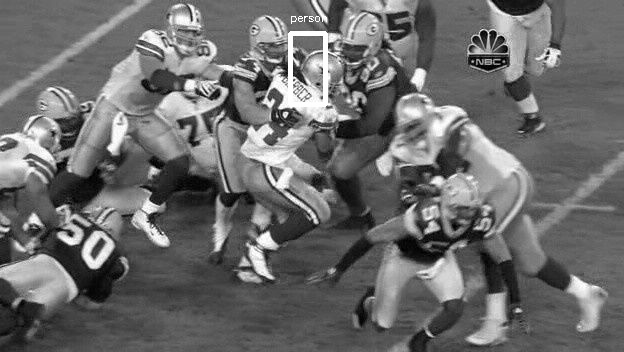person: (309, 52, 344, 97), (308, 52, 343, 97), (310, 52, 345, 97), (309, 51, 344, 96), (309, 53, 344, 98)
target_negative: (375, 117, 550, 182), (400, 115, 450, 275), (163, 95, 361, 113), (410, 254, 470, 299), (427, 229, 433, 264)
